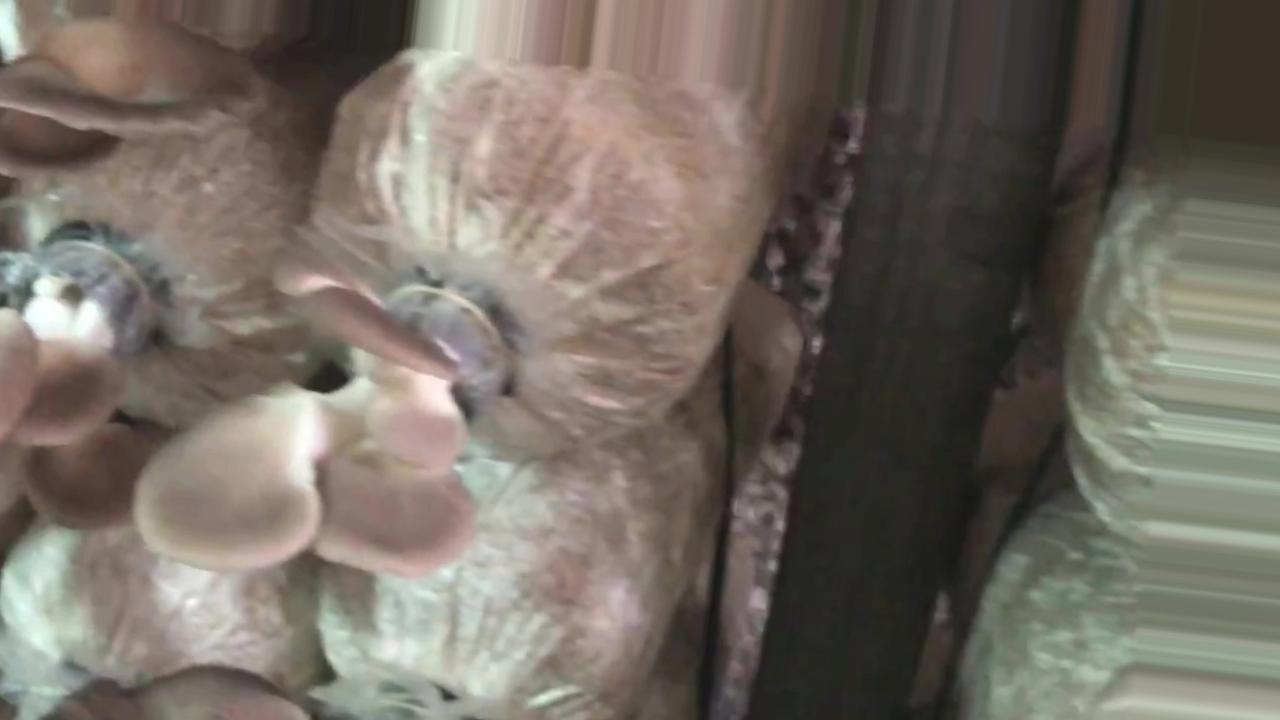nam: (132, 267, 505, 580), (1, 235, 155, 535)
